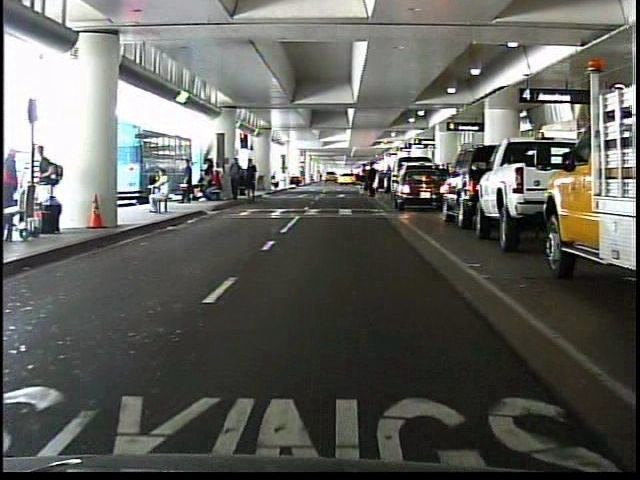person: (142, 167, 174, 217), (179, 156, 196, 207), (364, 158, 383, 203), (351, 160, 369, 197)
